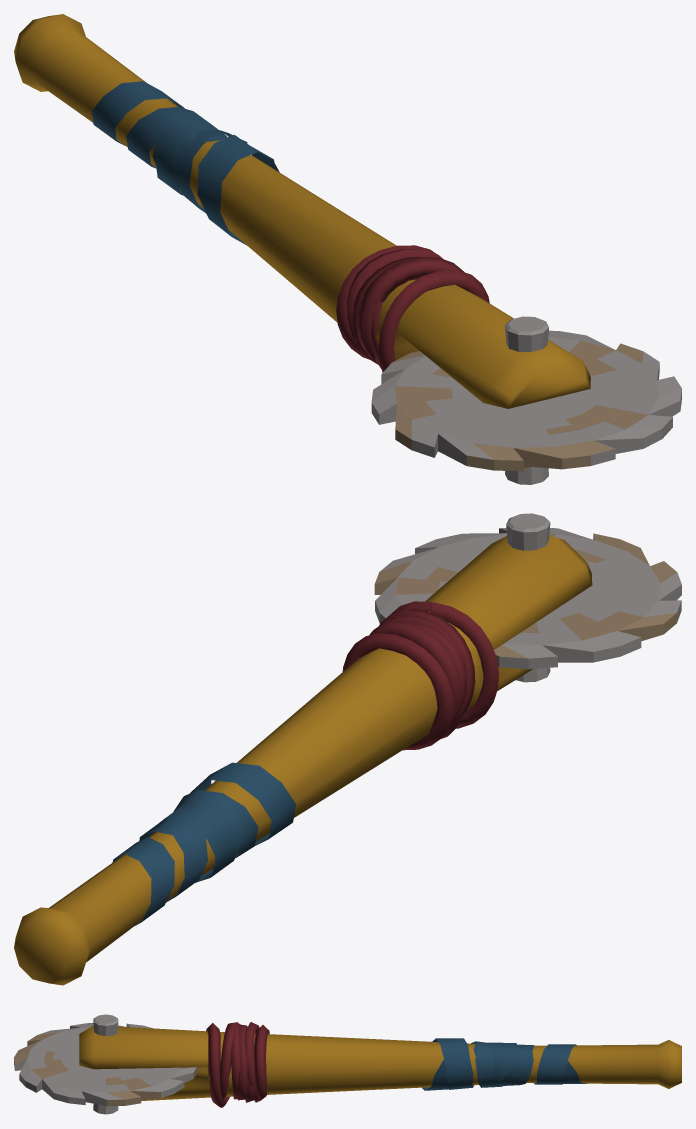
Rendered from quaternius-zombie-apocalypse-kit-march-woodenbat-saw.glb.
3 renders of one model, top to bottom at view 1: azimuth 30°, elevation 25°; view 2: azimuth 150°, elevation 25°; view 3: azimuth 270°, elevation 25°, orthographic. The views are drawn at different scales.
Parts seen in each view (by area): view 1: WoodenBat_Saw; view 2: WoodenBat_Saw; view 3: WoodenBat_Saw.
Boxes of the visible parts, box(x1,y1,x2,y2) form: WoodenBat_Saw: box(14, 14, 681, 484); WoodenBat_Saw: box(14, 513, 681, 985); WoodenBat_Saw: box(14, 1014, 681, 1114).
Bounding box in the file's own units: 0.3757 × 0.2056 × 1.37.
1 material, 1 textured.
